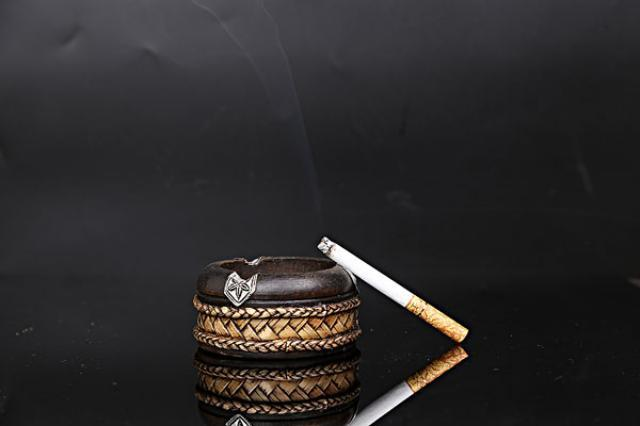Smoking: (313, 219, 471, 345), (300, 347, 494, 425)
